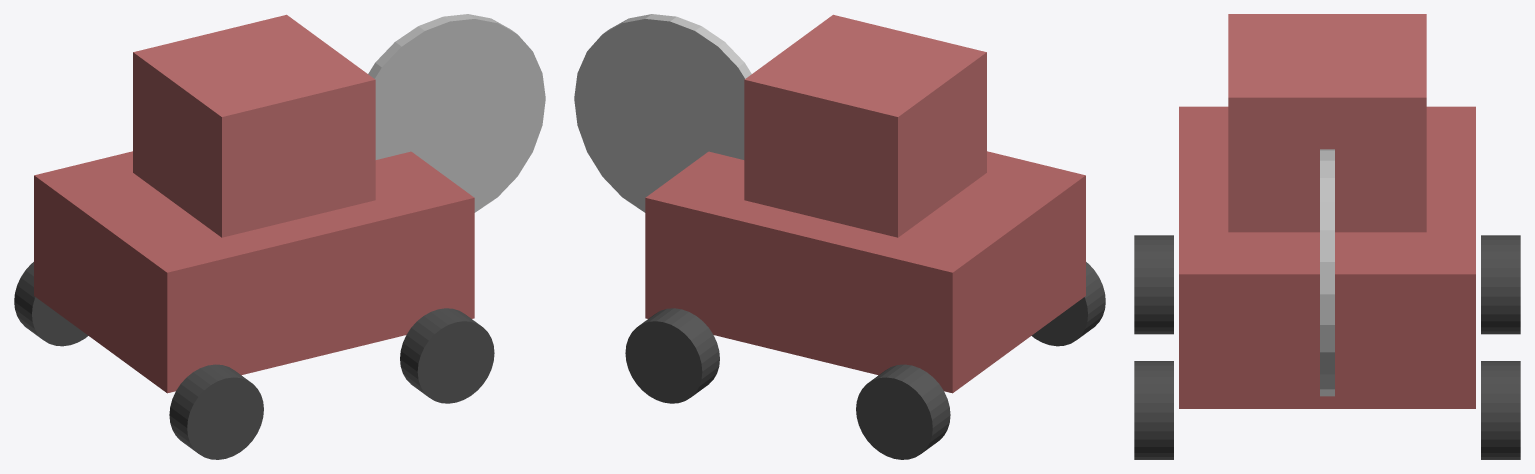
File: test_bot.glb
3 views of the same model, side by side, from view 1: azimuth 30°, elevation 25°; view 2: azimuth 150°, elevation 25°; view 3: azimuth 270°, elevation 25° (orthographic). The views are drawn at different scales.
Visible parts, largest first — view 1: world; view 2: world; view 3: world.
Part boxes in pixels (x1,y1,x2,y2): world: (14, 14, 545, 459); world: (574, 14, 1105, 459); world: (1134, 14, 1520, 459).
Bounding box in the file's own units: 1.15 × 0.75 × 0.78.
